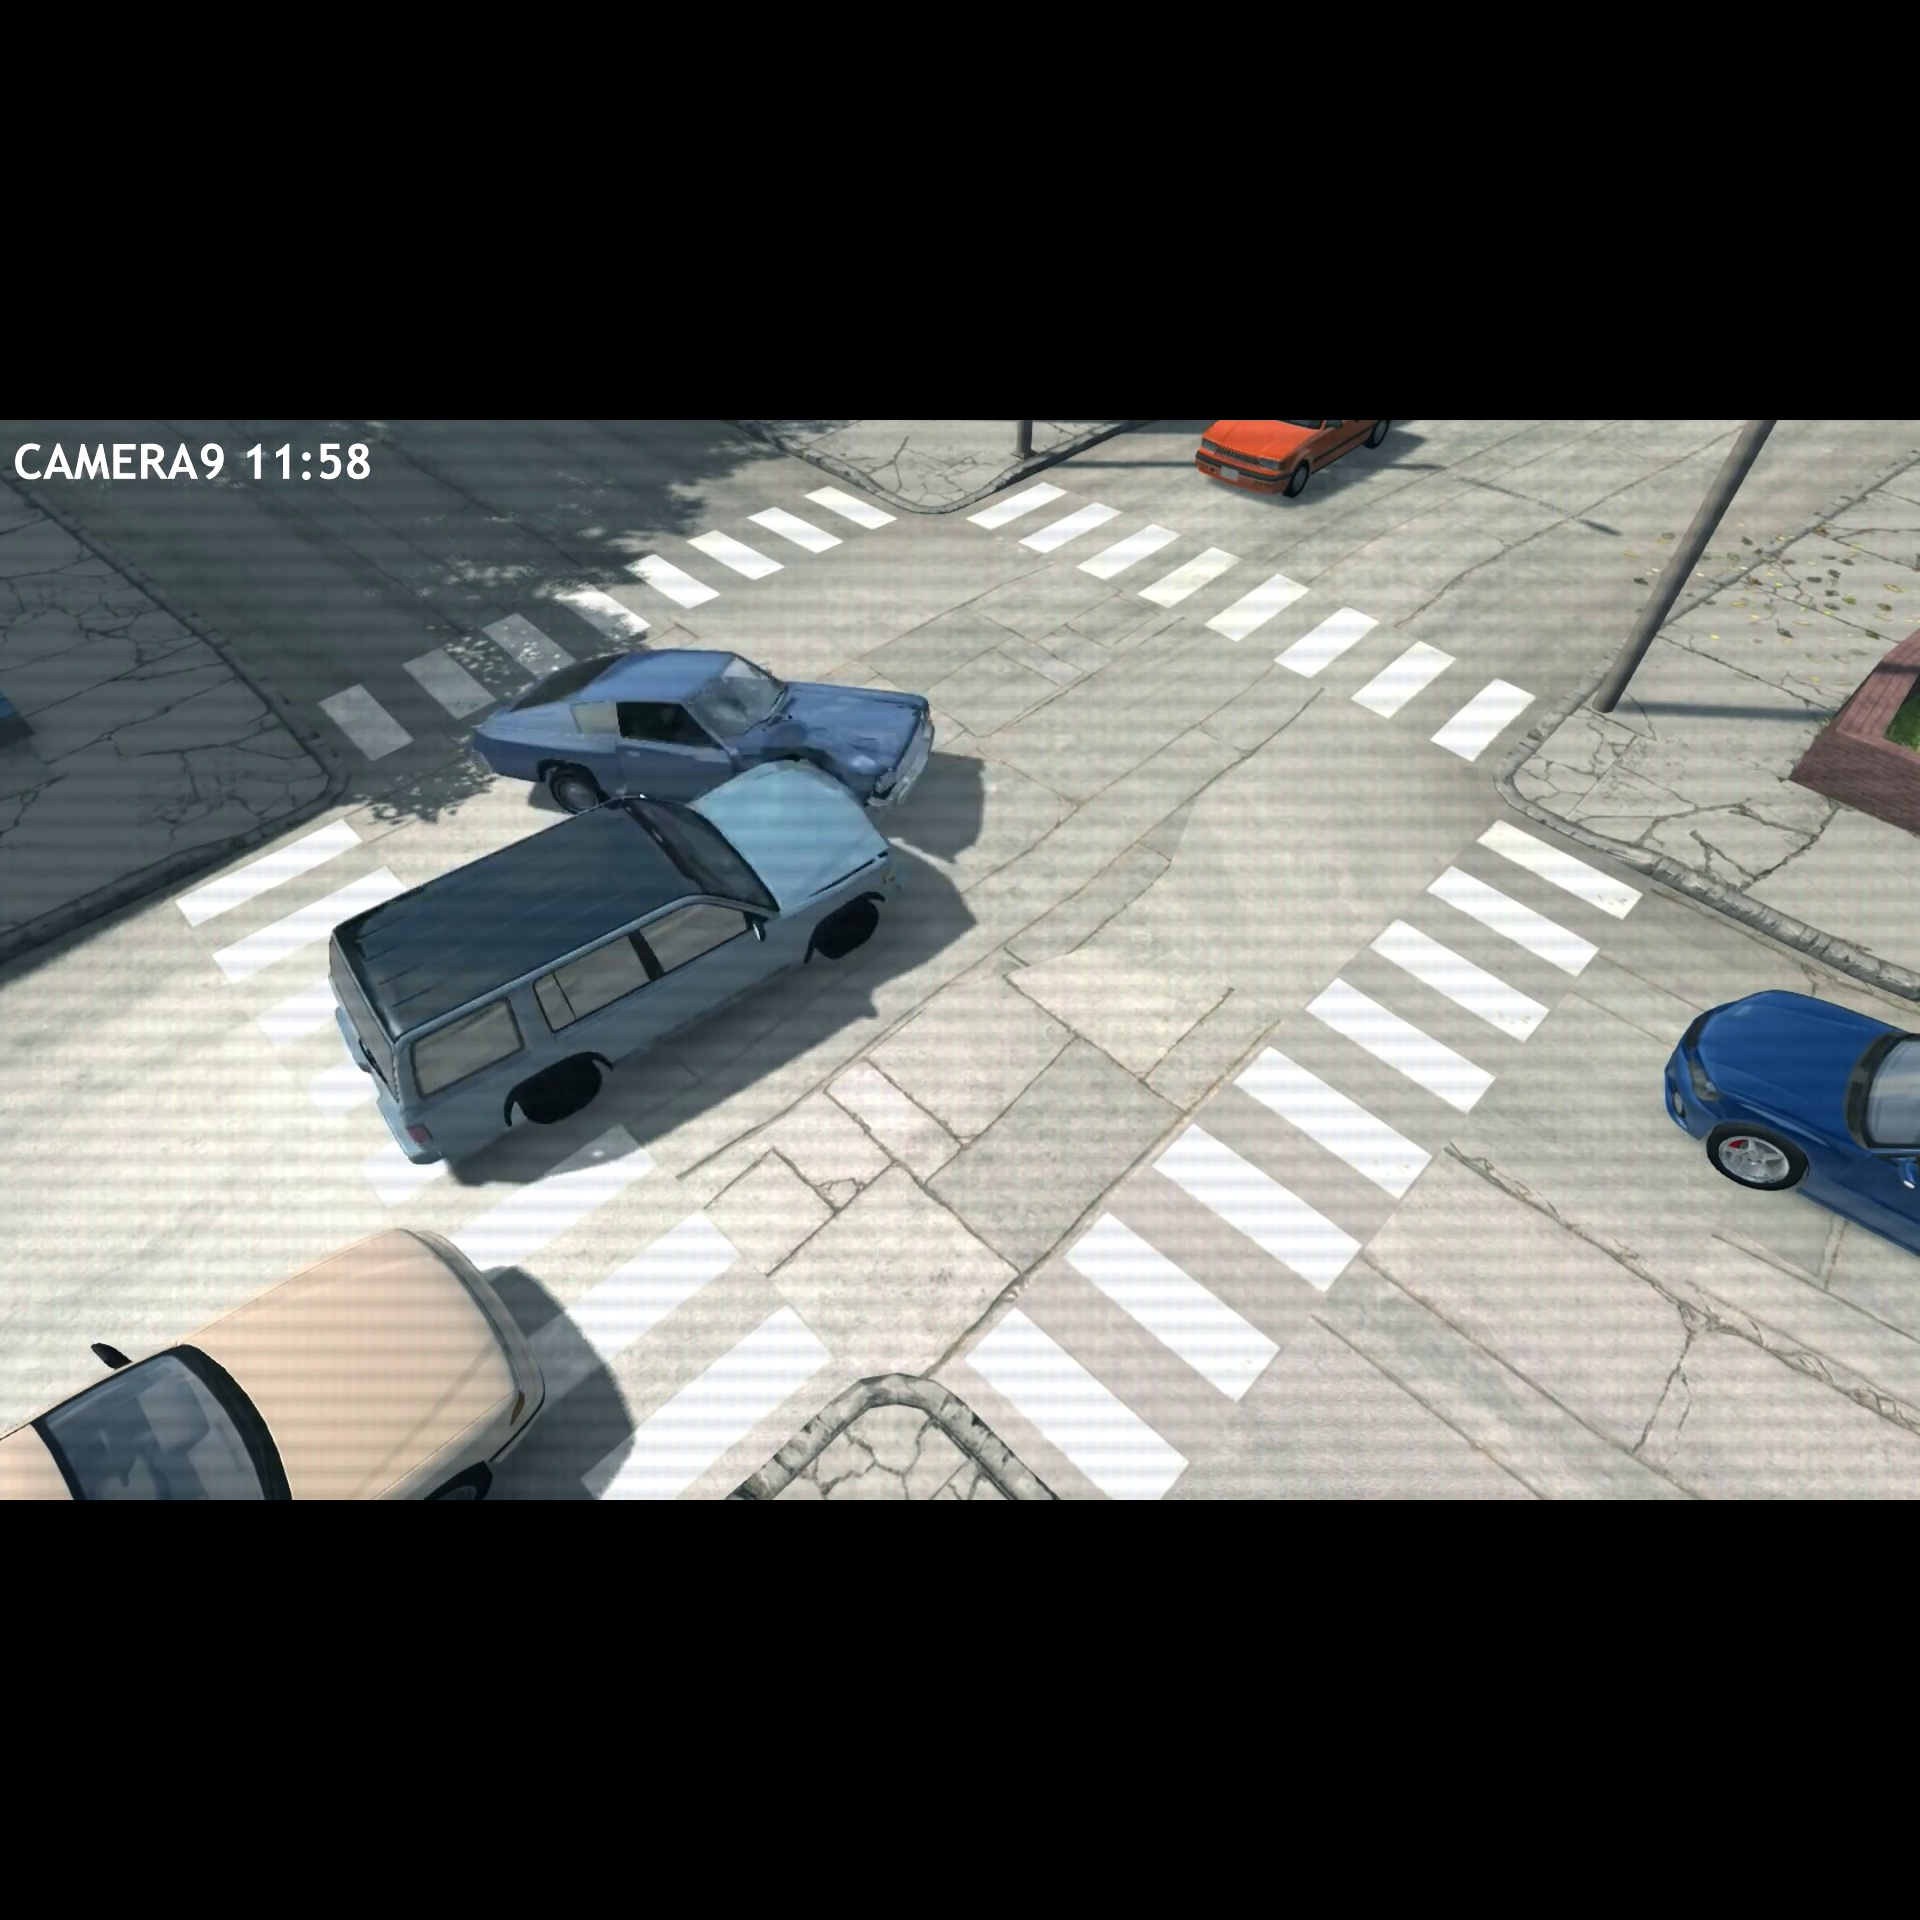vehicle: (309, 760, 900, 1171), (2, 1203, 556, 1500), (1646, 976, 1920, 1257), (464, 645, 935, 804), (1190, 425, 1393, 506)
